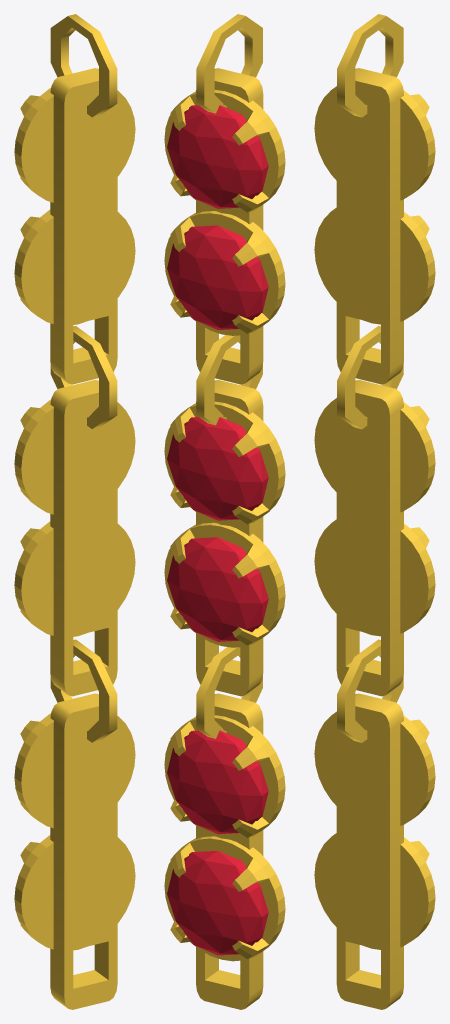
File: earring.glb
3 views of the same model, side by side, from view 1: azimuth 30°, elevation 25°; view 2: azimuth 150°, elevation 25°; view 3: azimuth 330°, elevation 25° (orthographic).
Parts seen in each view (by area): view 1: bottom; view 2: bottom; view 3: bottom.
Part boxes in pixels (x1,y1,x2,y2): bottom: (14,14,135,1009); bottom: (164,14,285,1009); bottom: (314,14,435,1009).
Bounding box in the file's own units: 0.2874 × 2.35 × 0.2553.
